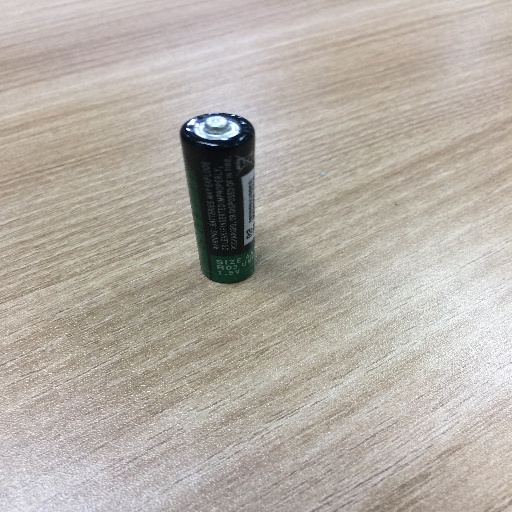Battery_0: (175, 104, 265, 294)
